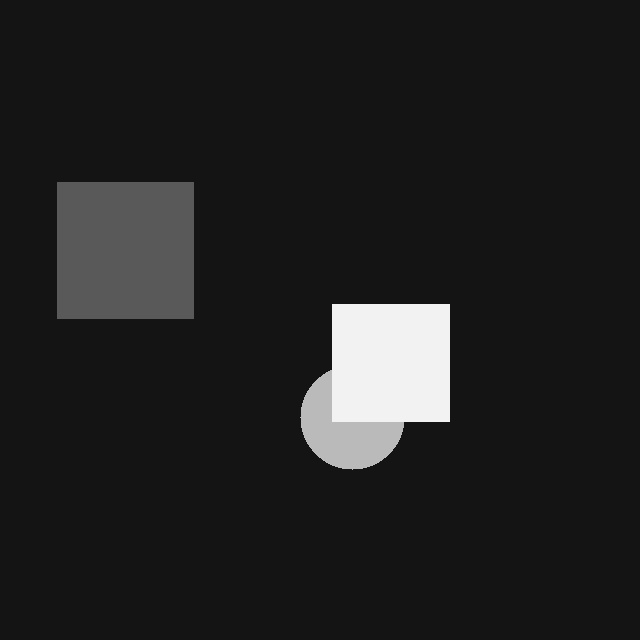circle: (300, 365, 404, 469)
square: (57, 182, 193, 318), (332, 304, 449, 421)
